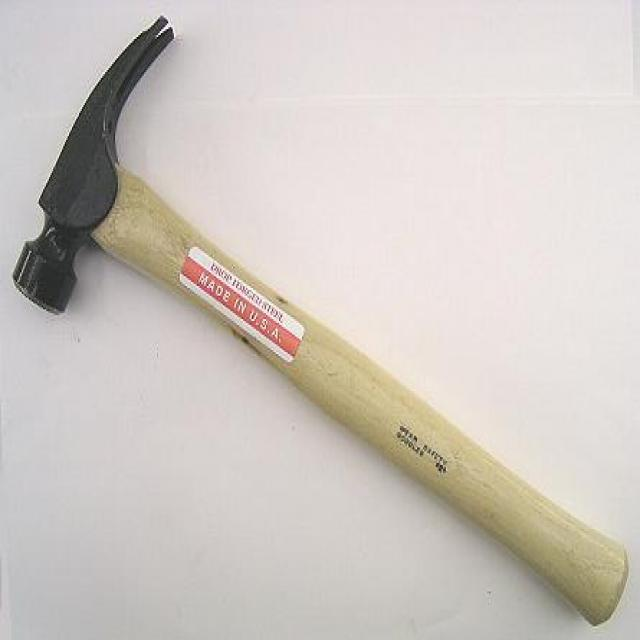hammer: (12, 16, 633, 622)
